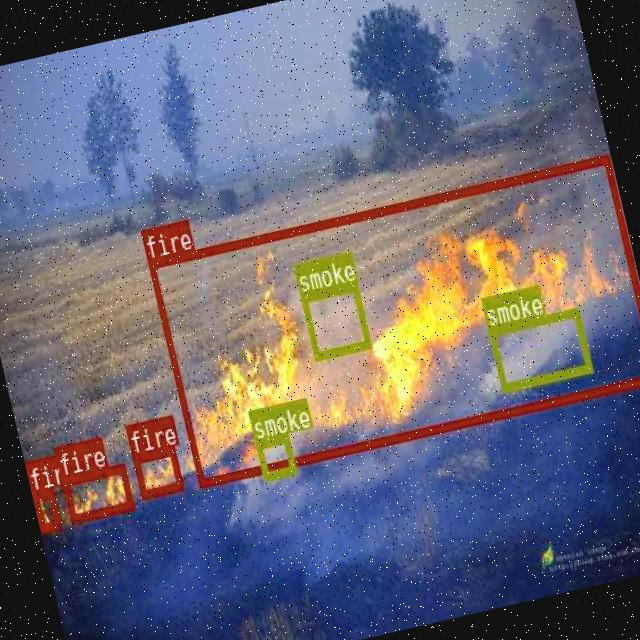fire: (146, 154, 640, 487), (60, 462, 134, 520), (132, 446, 182, 496), (31, 487, 59, 530)
smoke: (486, 306, 592, 392), (299, 281, 371, 359), (254, 432, 295, 478)
